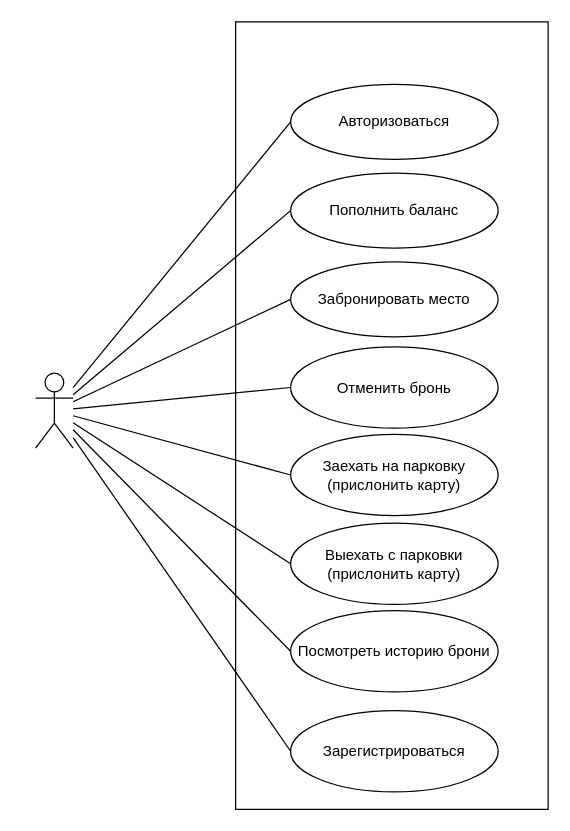
The diagram is 570 pixels wide and 831 high, and some of its shapes have lost their labels. The box of each missing label's shape, as (x1, y1, x2, y2) in pixels:
Smart Parking: (239, 34, 414, 84)
Водитель: (34, 372, 73, 448)
